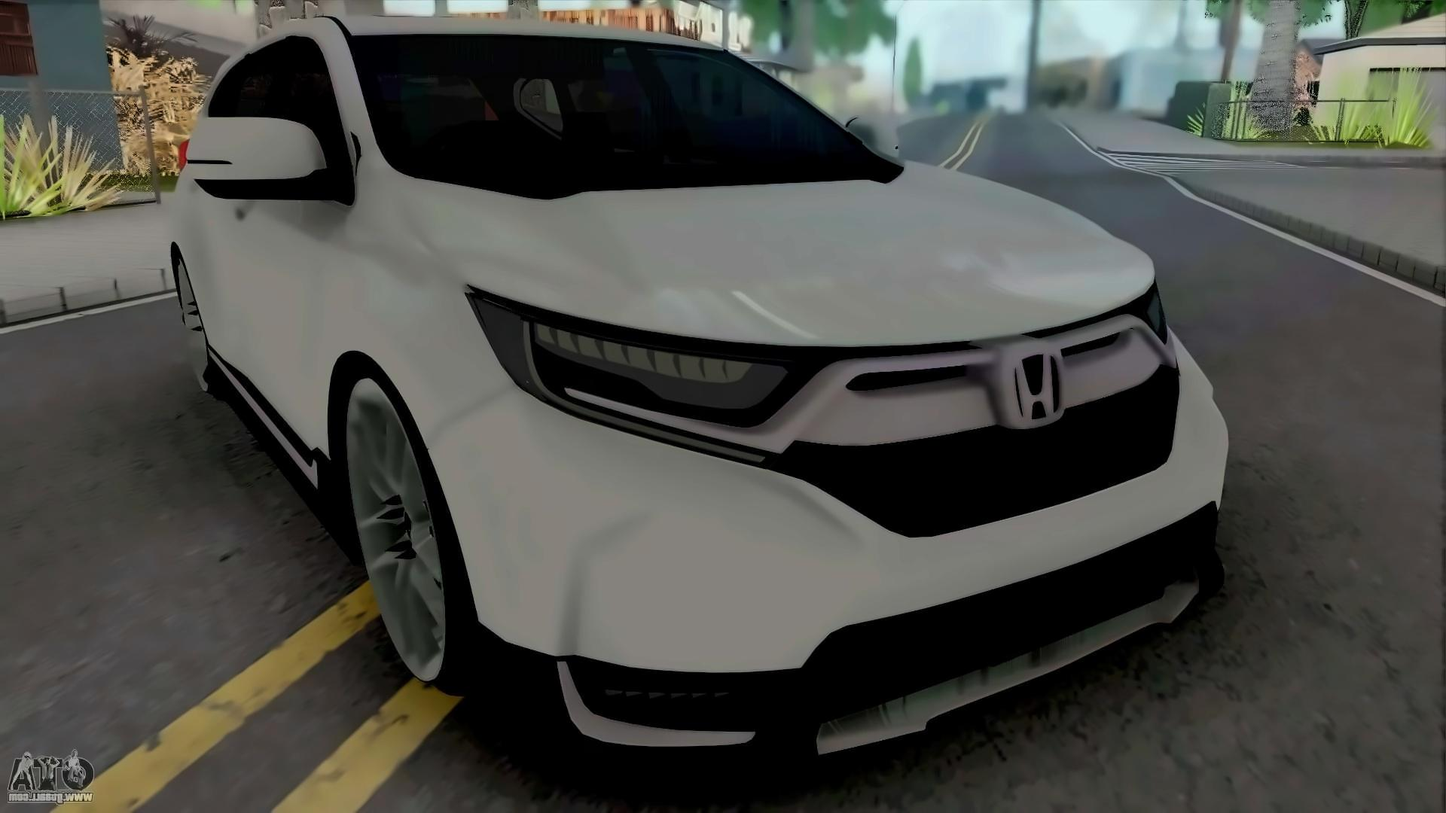Car hood: (375, 162, 1156, 352)
Driver-s door - -F-R-: (216, 8, 343, 511)
Fender - -F-R-: (322, 162, 515, 534)
Front bumper: (427, 314, 1231, 781)
Headlight - -R-: (466, 276, 832, 457)
Side bumper - -R-: (197, 319, 341, 527)
Side mirror - -R-: (186, 109, 348, 204)
